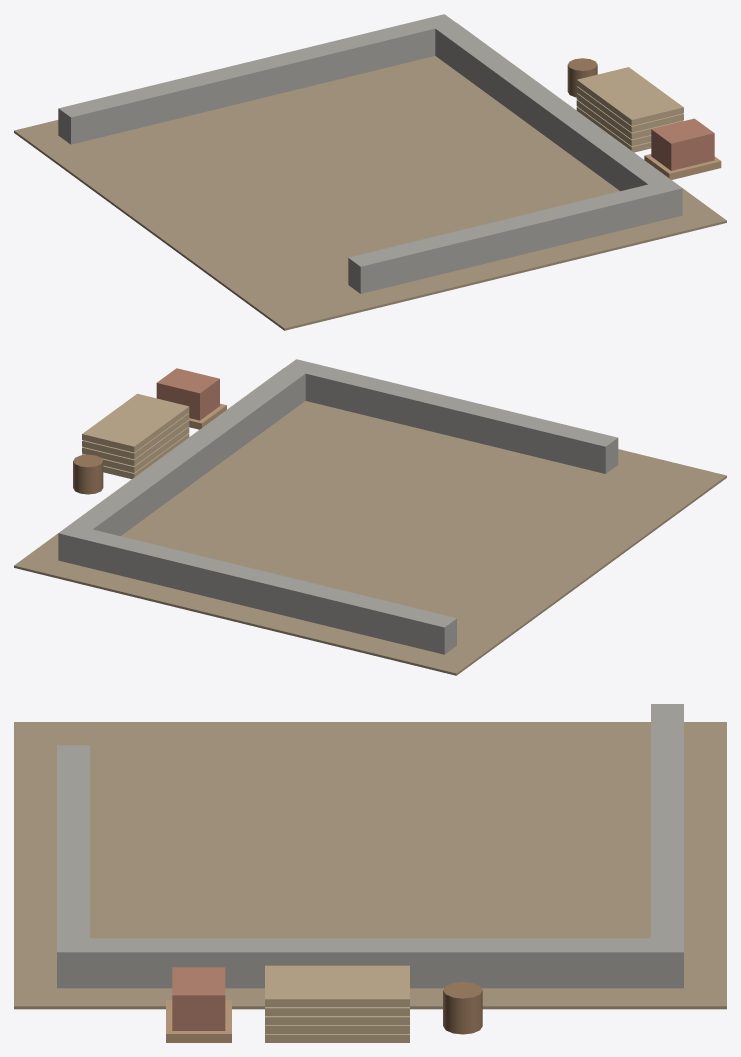
The model's file is bakery_site_2.glb.
3 views of the same model, one above another, from view 1: azimuth 30°, elevation 25°; view 2: azimuth 150°, elevation 25°; view 3: azimuth 270°, elevation 25° (orthographic). The views are drawn at different scales.
Visible parts, largest first — view 1: body; view 2: body; view 3: body.
Part boxes in pixels (bbox=[...]): body: bbox=[14, 14, 726, 330]; body: bbox=[14, 359, 726, 675]; body: bbox=[14, 704, 726, 1042].
Size of the model in its own units: 2.28 by 0.15 by 2.16.
